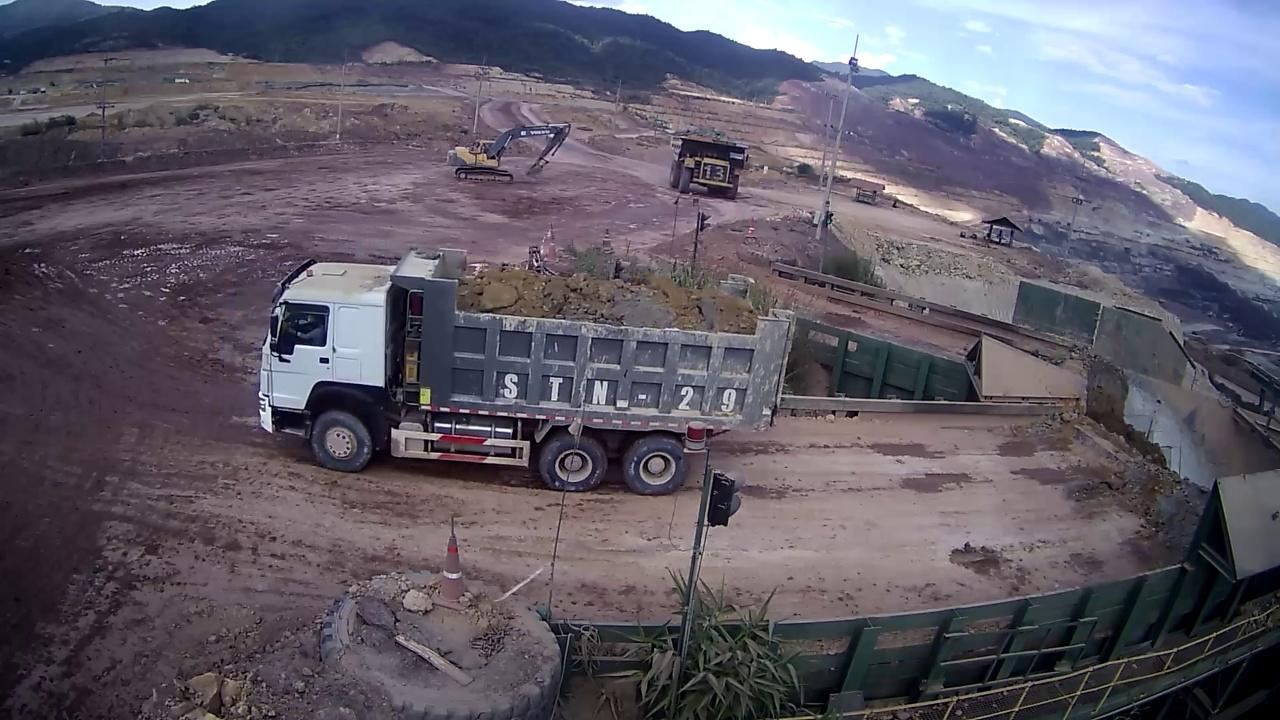front_number: (701, 159, 731, 186)
mining_truck: (662, 124, 751, 201)
